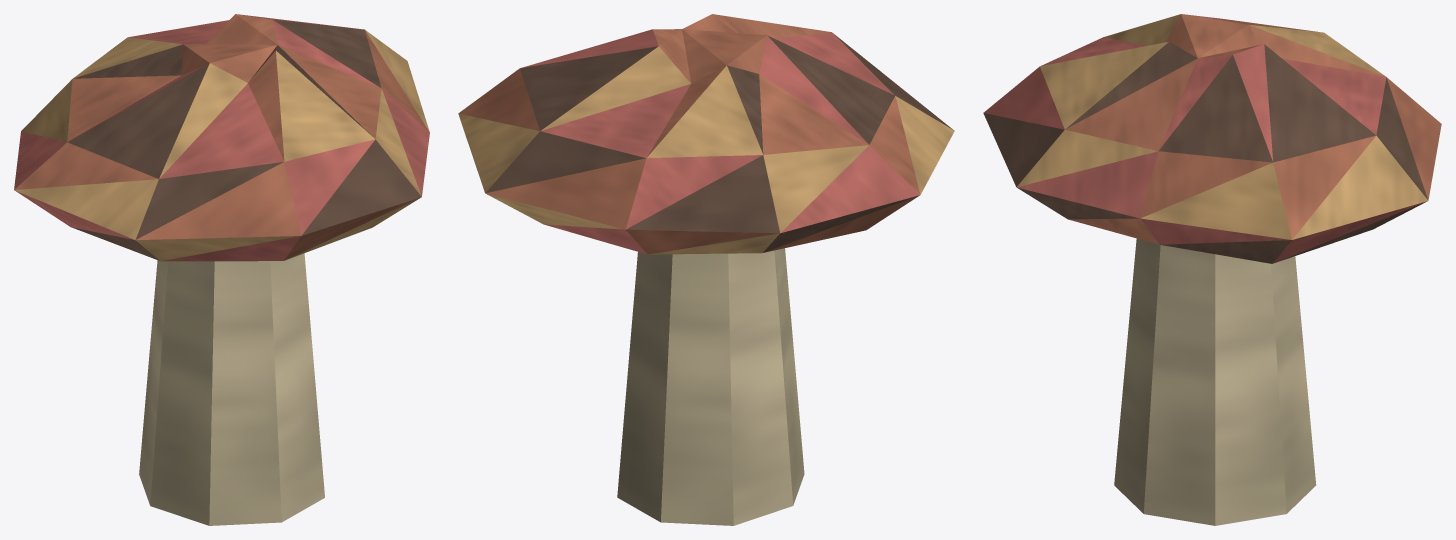
The model's file is mushroom_small_set_05.fbx.
The picture shows the model from 3 angles, left to right: view 1: azimuth 30°, elevation 25°; view 2: azimuth 150°, elevation 25°; view 3: azimuth 270°, elevation 25°; orthographic projection.
Parts seen in each view (by area): view 1: mushroom_small_set_05; view 2: mushroom_small_set_05; view 3: mushroom_small_set_05.
Part boxes in pixels (bbox=[...]): mushroom_small_set_05: bbox=[14, 14, 429, 525]; mushroom_small_set_05: bbox=[458, 14, 954, 525]; mushroom_small_set_05: bbox=[983, 14, 1441, 525].
Size of the model in its own units: 25.1 by 25.2 by 23.
Materials: 1 (1 with a texture image).
